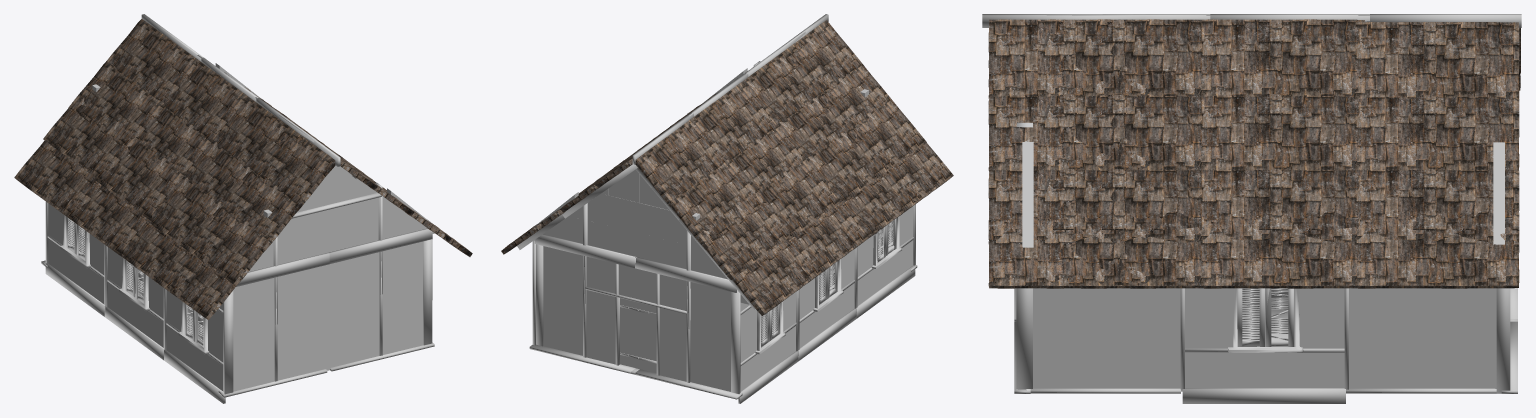
Rendered from Casa_V9_Red.fbx.
3 views of the same model, side by side, from view 1: azimuth 30°, elevation 25°; view 2: azimuth 150°, elevation 25°; view 3: azimuth 270°, elevation 25° (orthographic). The views are drawn at different scales.
Parts seen in each view (by area): view 1: tejado__2_; view 2: tejado__2_; view 3: tejado__2_.
Part boxes in pixels (x1=…): tejado__2_: x1=14, y1=14, x2=472, y2=403; tejado__2_: x1=501, y1=14, x2=953, y2=403; tejado__2_: x1=982, y1=14, x2=1521, y2=403.
Bounding box in the file's own units: 761 × 627 × 966.
